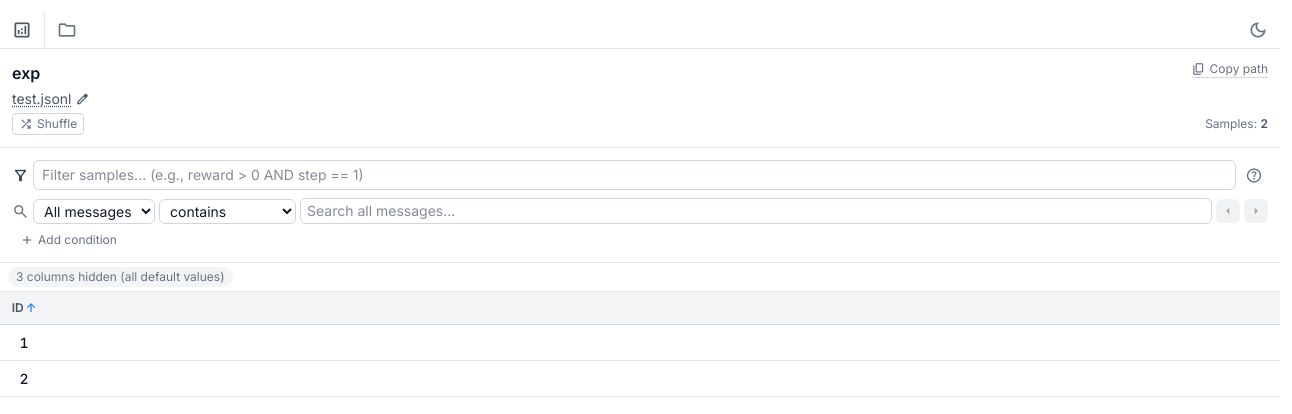
Scenario: LeftPanel default-column hiding › pill toggle reveals the hidden columns
Step 1. Click the button "3 columns hidden (all default values)" → click(120, 277), box [8,267,233,287]
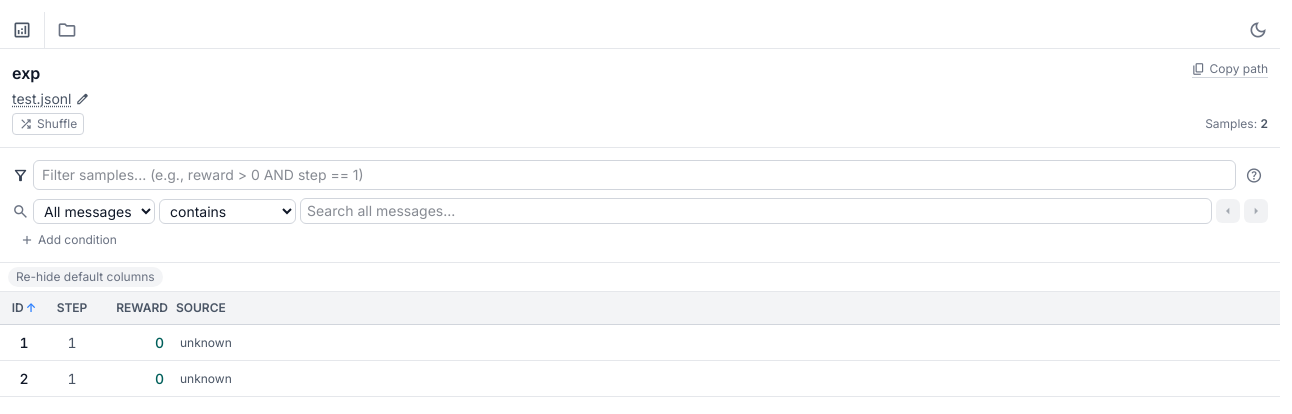
Check: the element titled "Reward" is shown, box [116,300,168,315]
Check: the element titled "Step" is shown, box [57,300,87,315]
Check: the element titled "Data Source" is shown, box [176,300,226,315]
